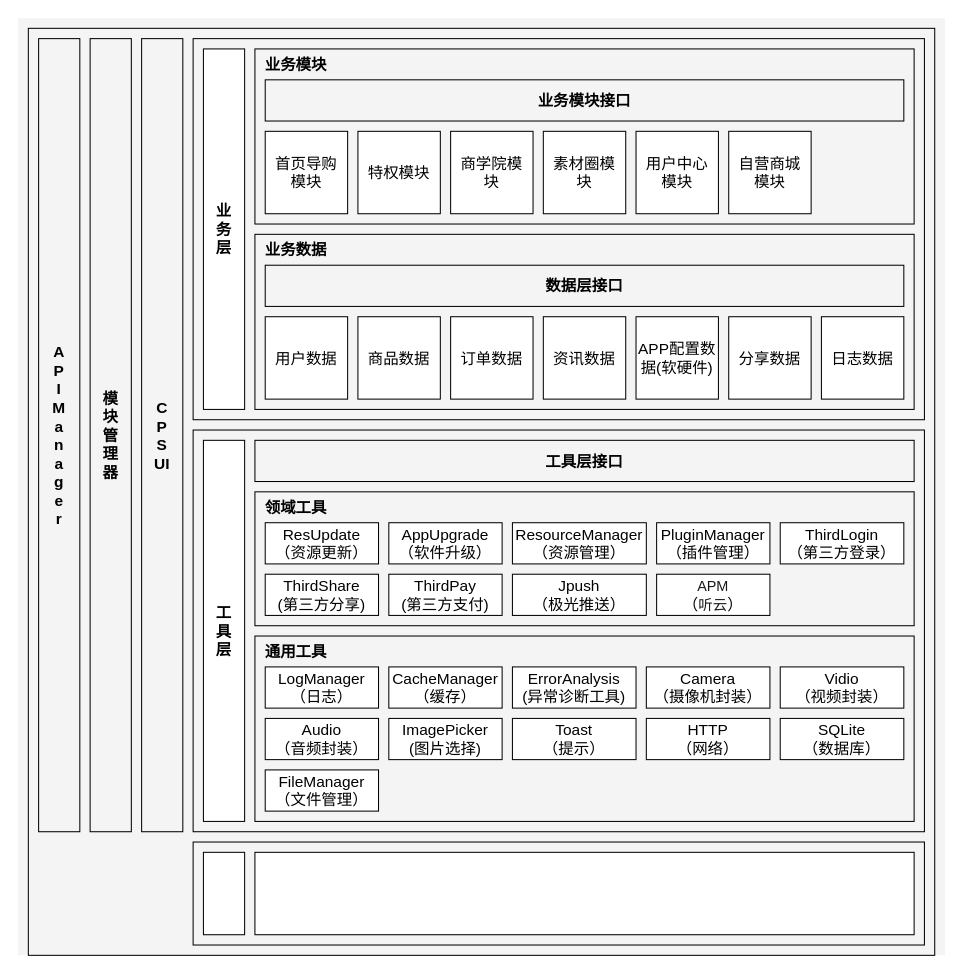
The diagram is 962 pixels wide and 973 high, and some of its shapes have lost their labels. Each missing label, with the centre of its shape:
"S D K 层" goes at [223,893].
"系统SDK" goes at [584,893].
